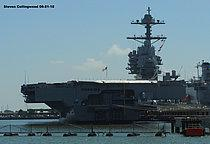MIL_Ship: (18, 6, 176, 120)
